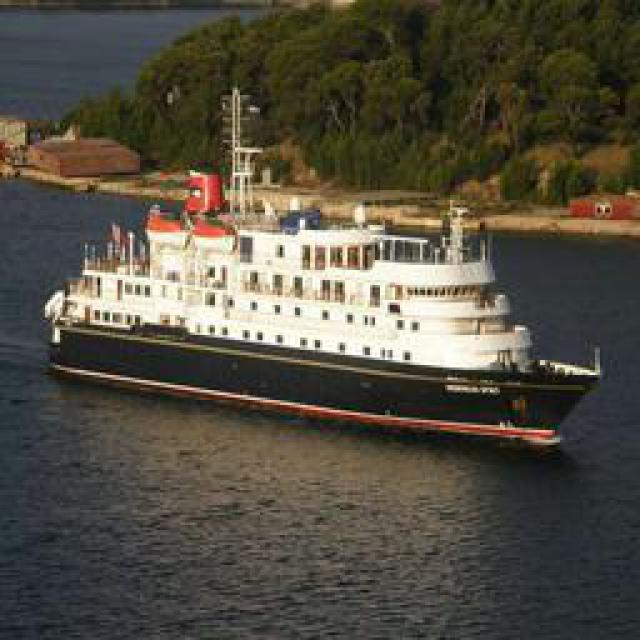Ship: (41, 185, 609, 443)
